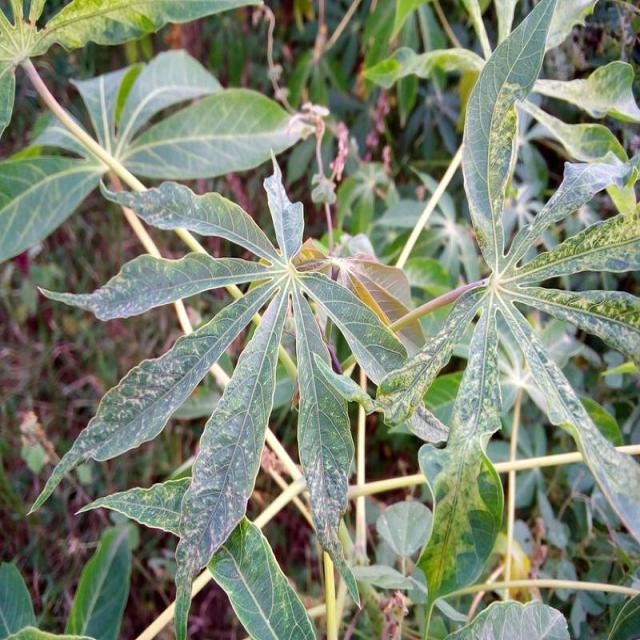cassava leaf: (6, 1, 636, 638), (30, 147, 424, 637)
